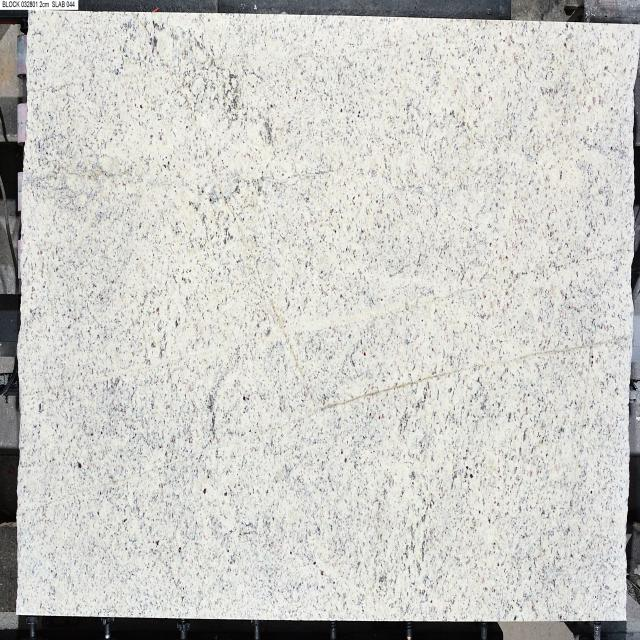chapa: (18, 13, 639, 620)
